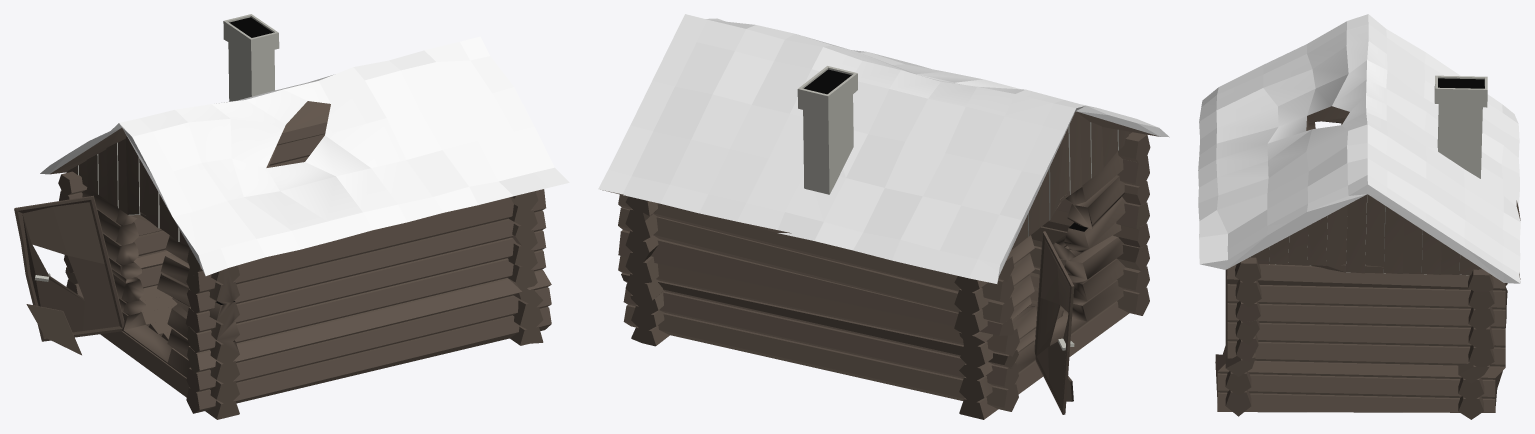
Rendered from fkdup_Log_Cabin.fbx.
3 views of the same model, side by side, from view 1: azimuth 30°, elevation 25°; view 2: azimuth 150°, elevation 25°; view 3: azimuth 270°, elevation 25° (orthographic). The views are drawn at different scales.
Parts seen in each view (by area): view 1: Log_Cabin, Door, Door.001; view 2: Log_Cabin, Door; view 3: Log_Cabin.
Boxes of the visible parts, <box> form: Log_Cabin: <box>40,14,569,419</box>; Door: <box>14,195,124,341</box>; Door.001: <box>26,304,81,355</box>; Log_Cabin: <box>598,14,1169,419</box>; Door: <box>1034,231,1074,414</box>; Log_Cabin: <box>1198,14,1520,419</box>.
Size of the model in its own units: 678 by 417 by 476.
